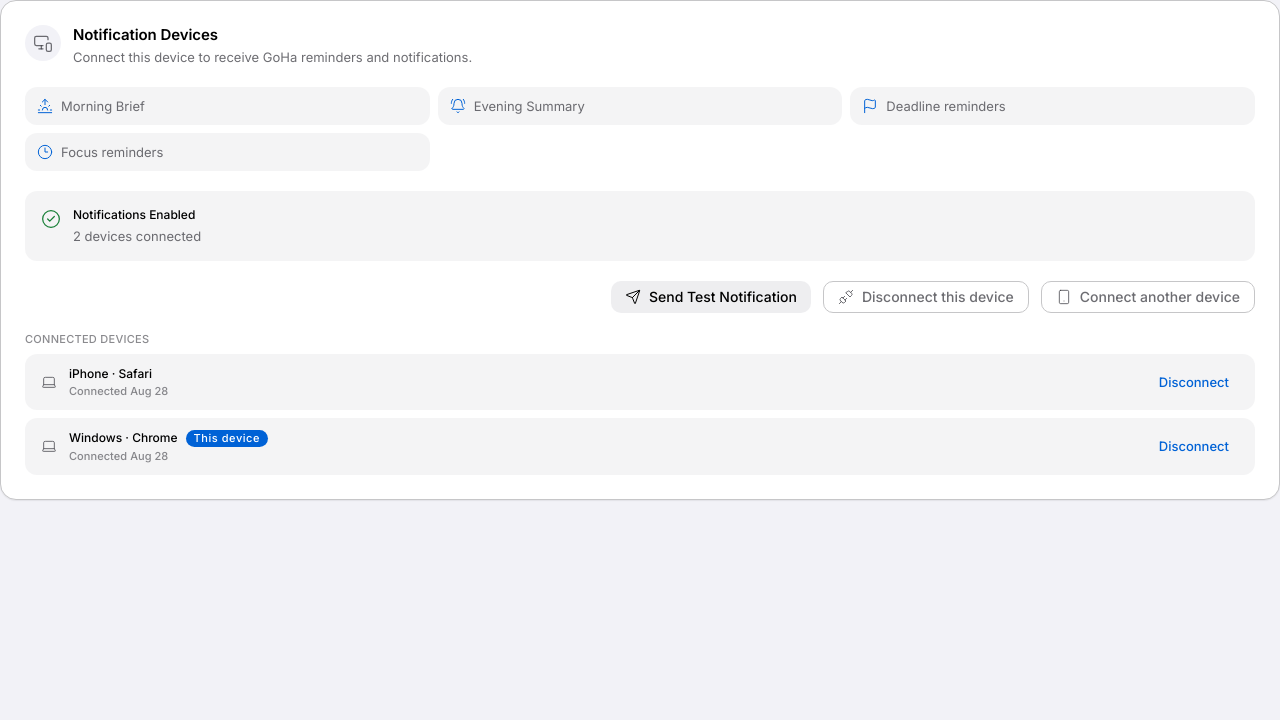
Test: notification devices card › disconnects one listed device without touching the others
Click the button with aria-label "Disconnect iPhone · Safari": (1194, 382) [1149,368,1239,396]
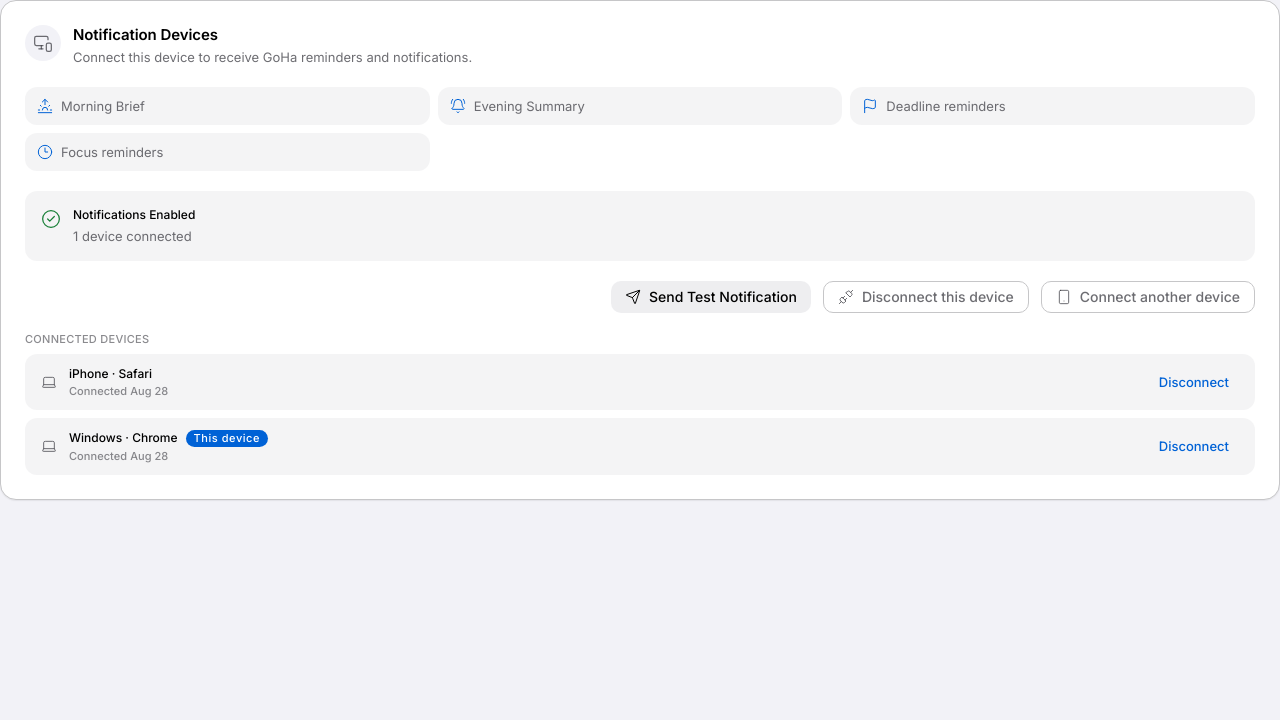
Now the text "1 device connected" is shown, box [73,227,195,245]
